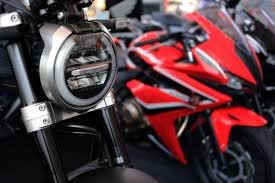motor: (126, 18, 275, 178)
